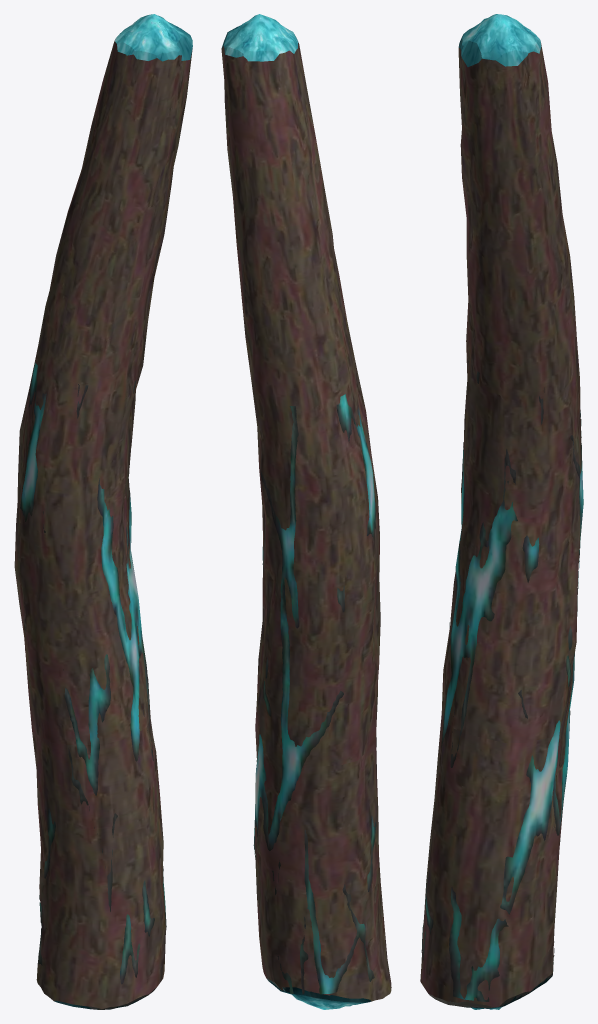
The picture shows the model from 3 angles, left to right: view 1: azimuth 30°, elevation 25°; view 2: azimuth 150°, elevation 25°; view 3: azimuth 270°, elevation 25°; orthographic projection. The views are drawn at different scales.
Parts seen in each view (by area): view 1: SM_MagicTree_01_tree_quarters_top_LOD0; view 2: SM_MagicTree_01_tree_quarters_top_LOD0; view 3: SM_MagicTree_01_tree_quarters_top_LOD0.
Part boxes in pixels (box(x1,y1,x2,y2)): SM_MagicTree_01_tree_quarters_top_LOD0: box(14, 14, 192, 1009); SM_MagicTree_01_tree_quarters_top_LOD0: box(221, 14, 391, 1009); SM_MagicTree_01_tree_quarters_top_LOD0: box(420, 14, 583, 1009).
Size of the model in its own units: 1.06 by 6.23 by 0.8992.
Materials: 1 (1 with a texture image).
